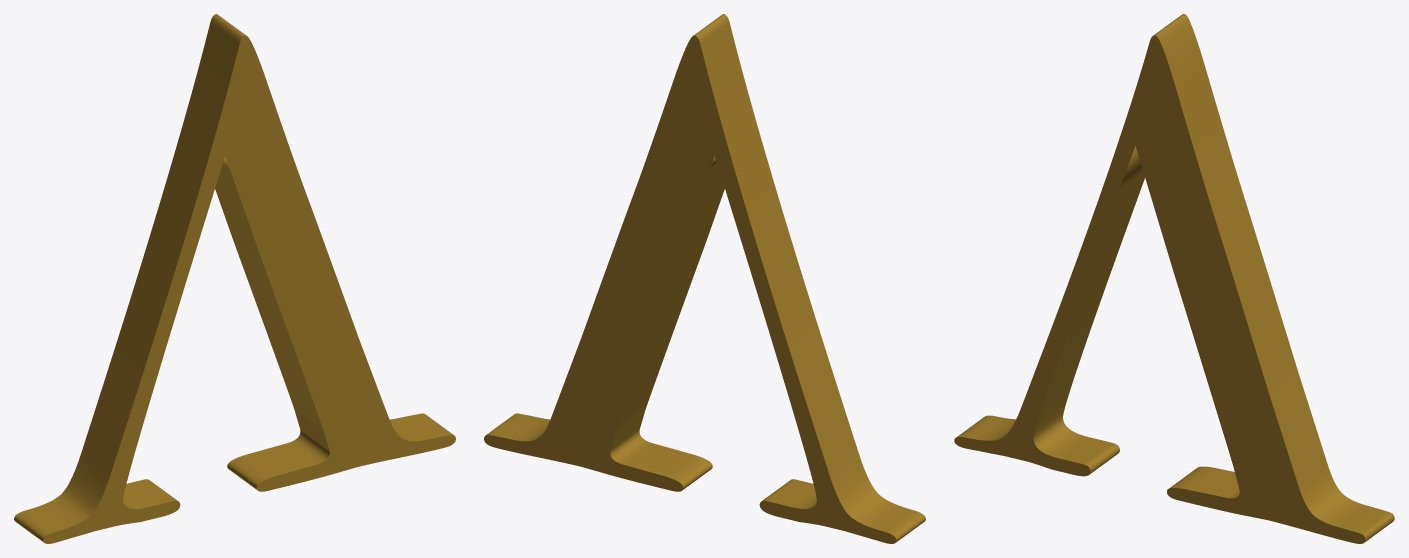
File: Elevate-a.glb
3 renders of one model, left to right at view 1: azimuth 30°, elevation 25°; view 2: azimuth 150°, elevation 25°; view 3: azimuth 330°, elevation 25°, orthographic.
Visible parts, largest first — view 1: lettre_a; view 2: lettre_a; view 3: lettre_a.
Boxes of the visible parts, x1,y1,x2,y2 form: lettre_a: [14, 14, 455, 543]; lettre_a: [484, 14, 925, 543]; lettre_a: [954, 14, 1394, 543].
Size of the model in its own units: 3.51 by 3.74 by 0.4323.
